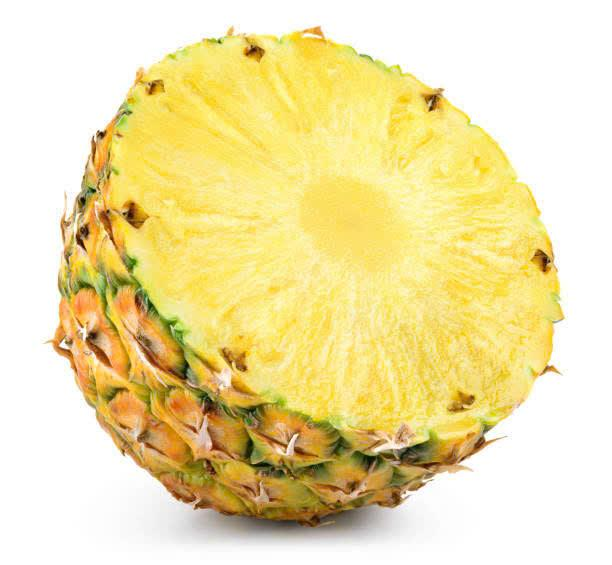pineapple: (47, 0, 571, 540)
